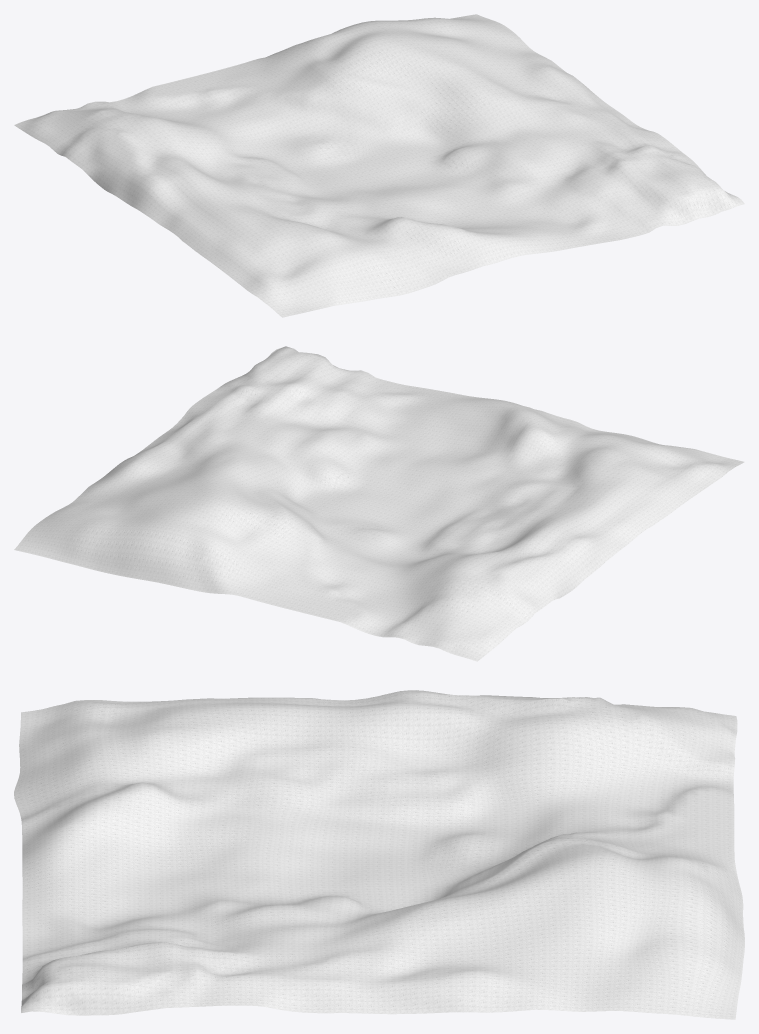
File: SnowTerrain.obj
3 renders of one model, top to bottom at view 1: azimuth 30°, elevation 25°; view 2: azimuth 150°, elevation 25°; view 3: azimuth 270°, elevation 25°, orthographic. The views are drawn at different scales.
Parts seen in each view (by area): view 1: Plane_Plane.002; view 2: Plane_Plane.002; view 3: Plane_Plane.002.
Part boxes in pixels (<box>): Plane_Plane.002: <box>14,14,744,317</box>; Plane_Plane.002: <box>14,346,744,661</box>; Plane_Plane.002: <box>14,690,744,1019</box>.
Size of the model in its own units: 63.5 by 6.28 by 63.96.
